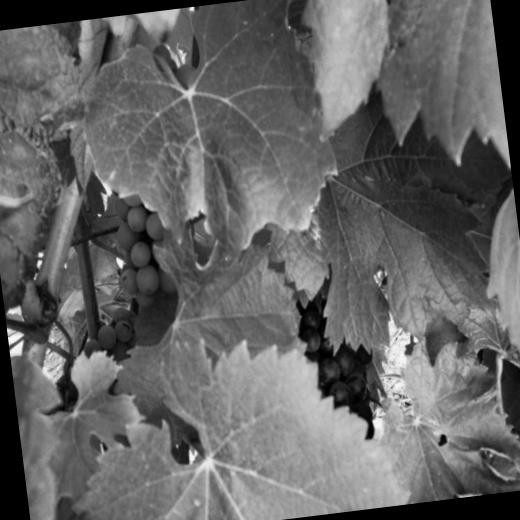Orange: (68, 191, 183, 364), (293, 276, 380, 438)
